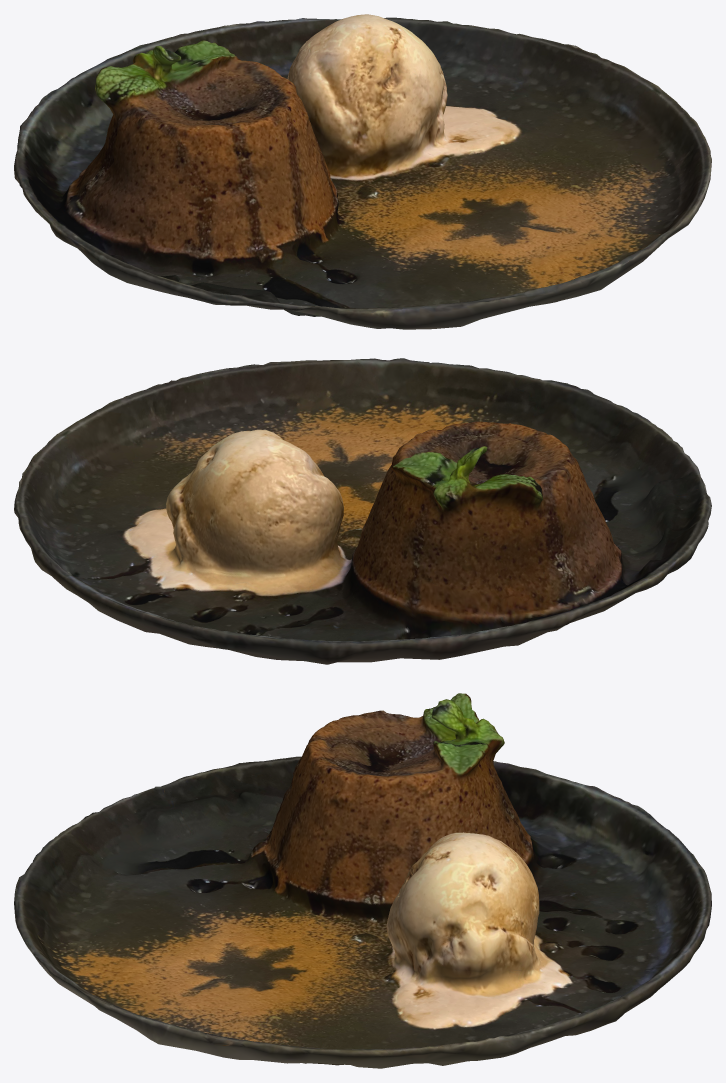
The model's file is fondants-au-chocolat.glb.
3 views of the same model, one above another, from view 1: azimuth 30°, elevation 25°; view 2: azimuth 150°, elevation 25°; view 3: azimuth 270°, elevation 25° (orthographic).
Parts seen in each view (by area): view 1: /ObjectCapture/Geometry/Mesh; view 2: /ObjectCapture/Geometry/Mesh; view 3: /ObjectCapture/Geometry/Mesh.
Boxes of the visible parts, left/top/right/bottom form: /ObjectCapture/Geometry/Mesh: left=14, top=14, right=711, bottom=329; /ObjectCapture/Geometry/Mesh: left=14, top=358, right=711, bottom=664; /ObjectCapture/Geometry/Mesh: left=14, top=693, right=711, bottom=1068.
Size of the model in its own units: 0.2112 by 0.0581 by 0.2113.
1 material, 1 textured.
